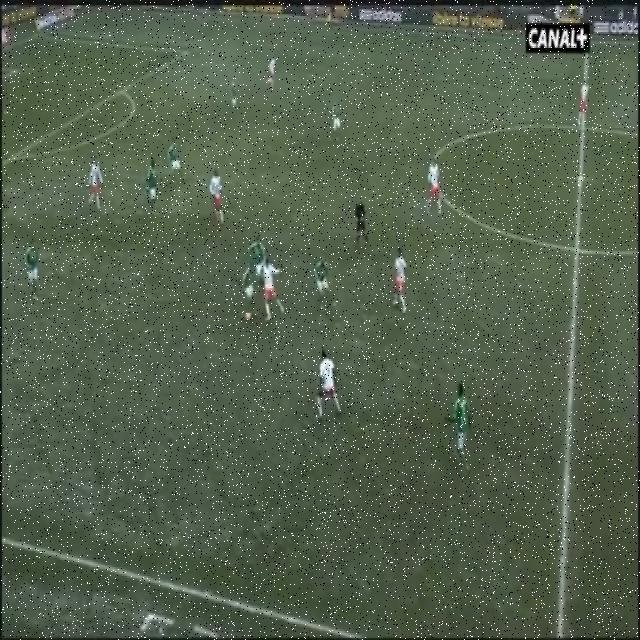ball: (236, 301, 256, 329)
player: (84, 128, 128, 246), (387, 227, 417, 349), (417, 149, 455, 243), (447, 369, 481, 469), (20, 209, 50, 322), (308, 342, 344, 436), (241, 202, 273, 304), (158, 130, 192, 226), (573, 62, 607, 153), (308, 245, 342, 327), (255, 44, 295, 109), (137, 149, 167, 221), (203, 156, 229, 232), (220, 72, 248, 136), (324, 90, 347, 162), (263, 252, 285, 327)
referee: (341, 187, 381, 263)
